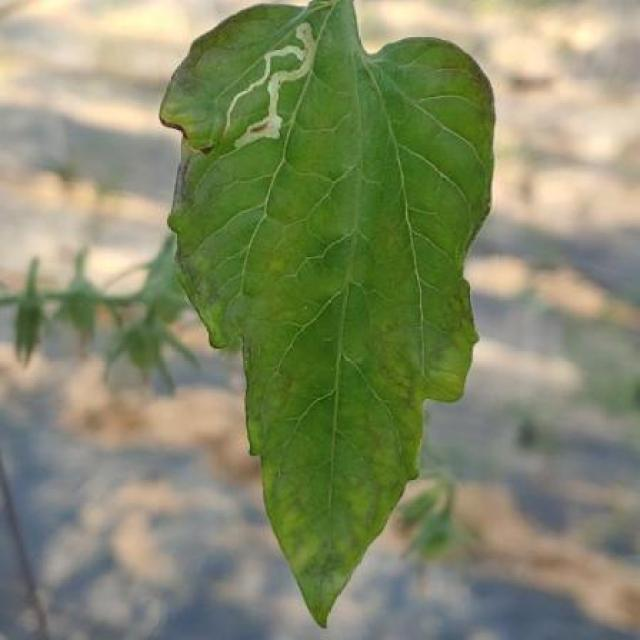Tuta absoluta: (210, 13, 343, 164)
